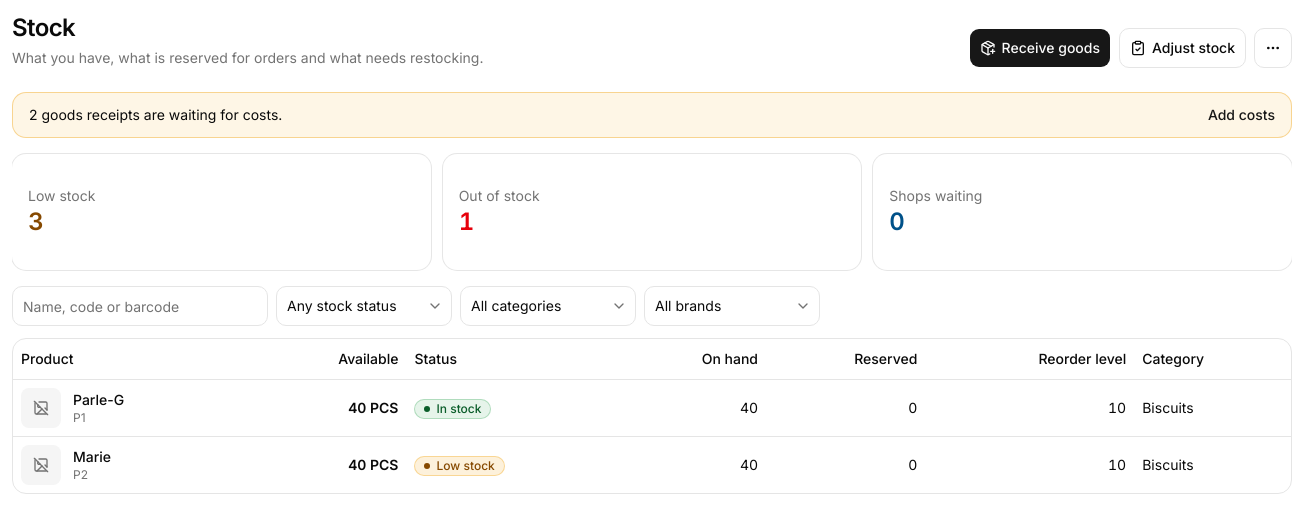
it: stock overview › lists stock with its status and filters from the count cards
The width and height of the screenshot is (1304, 511).
Expected: the text "Parle-G" is shown, [73,390,124,410]
Step 1. Click the button "Low stock 3" → (221, 212), box [12,154,431,270]
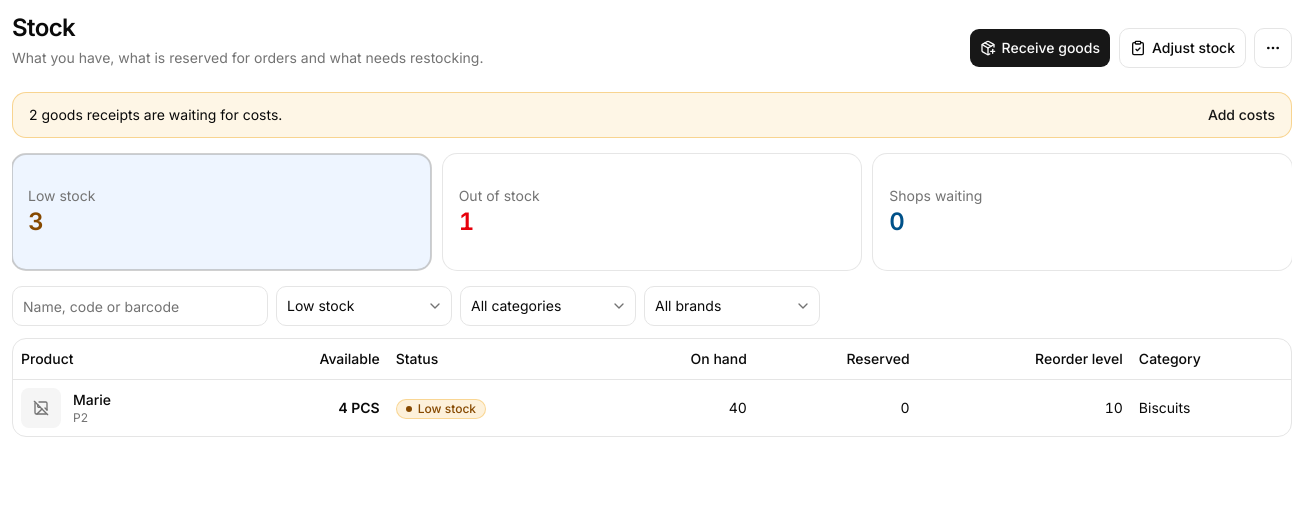
Expected: the link "Parle-G" is gone
